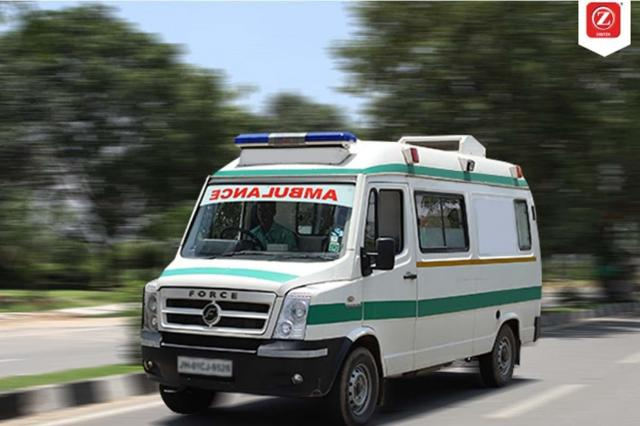ambulance: (123, 125, 550, 420)
